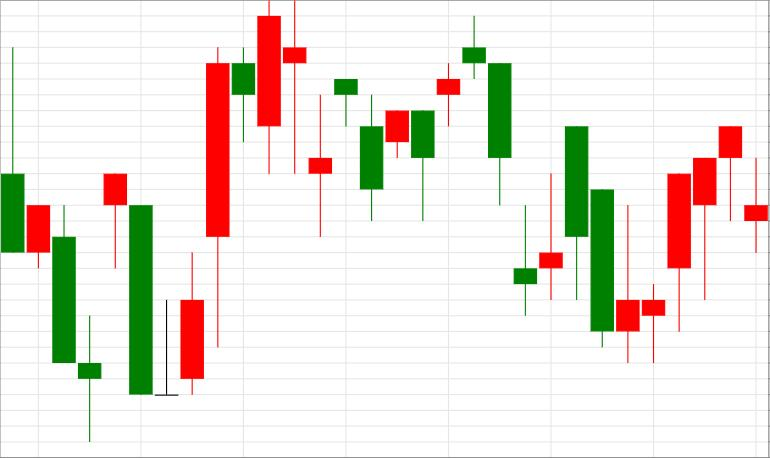hanging_man_fall: (617, 127, 742, 363)
